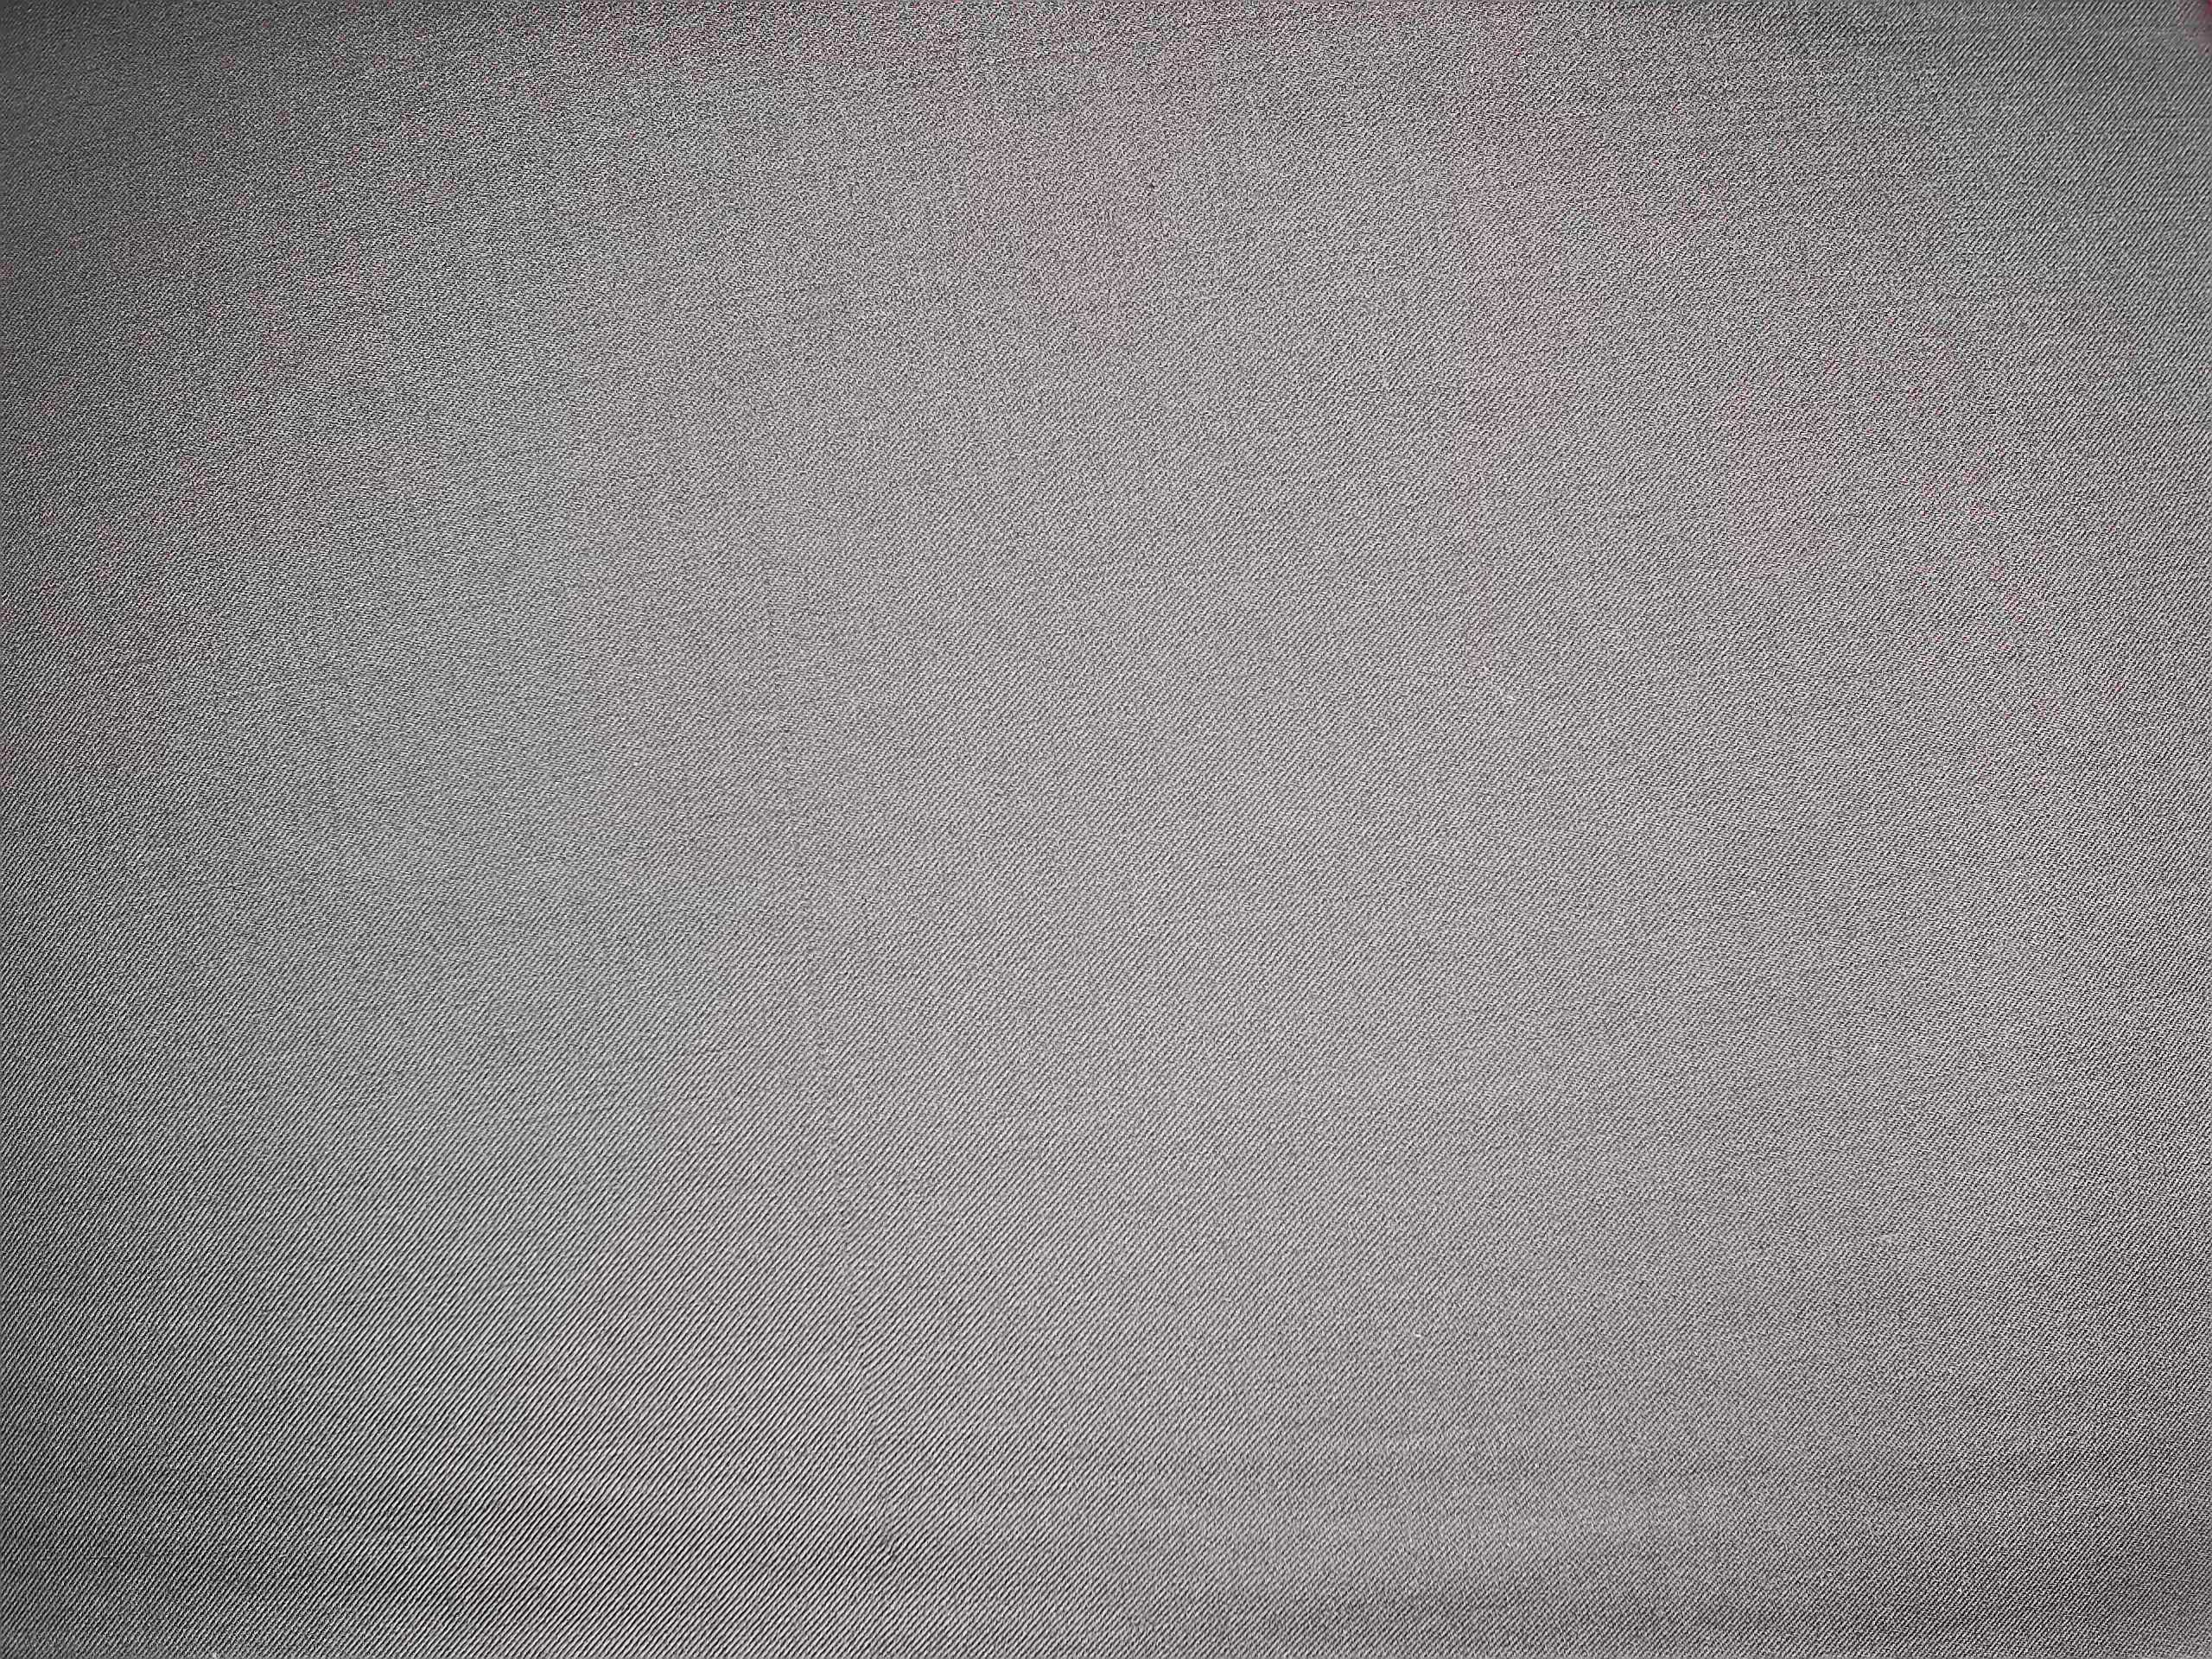hanging-warp: (745, 526, 904, 1509)
